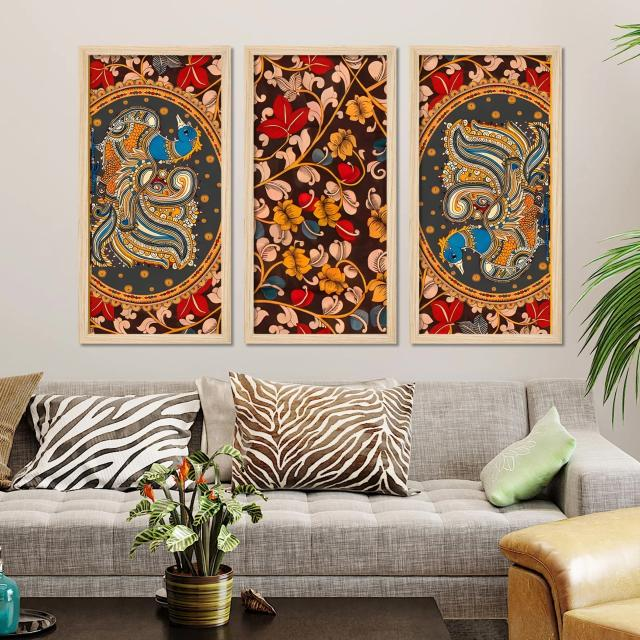painting: (410, 45, 562, 347), (81, 43, 233, 344), (246, 44, 397, 345)
